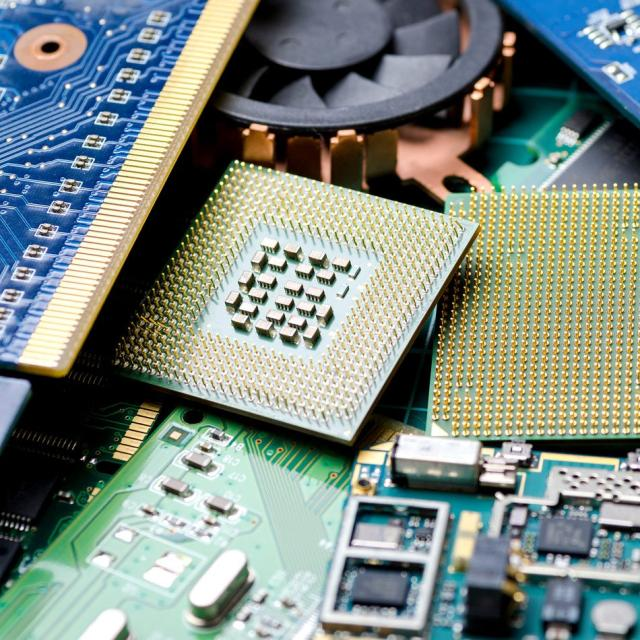Hazard: (2, 23, 640, 640)
